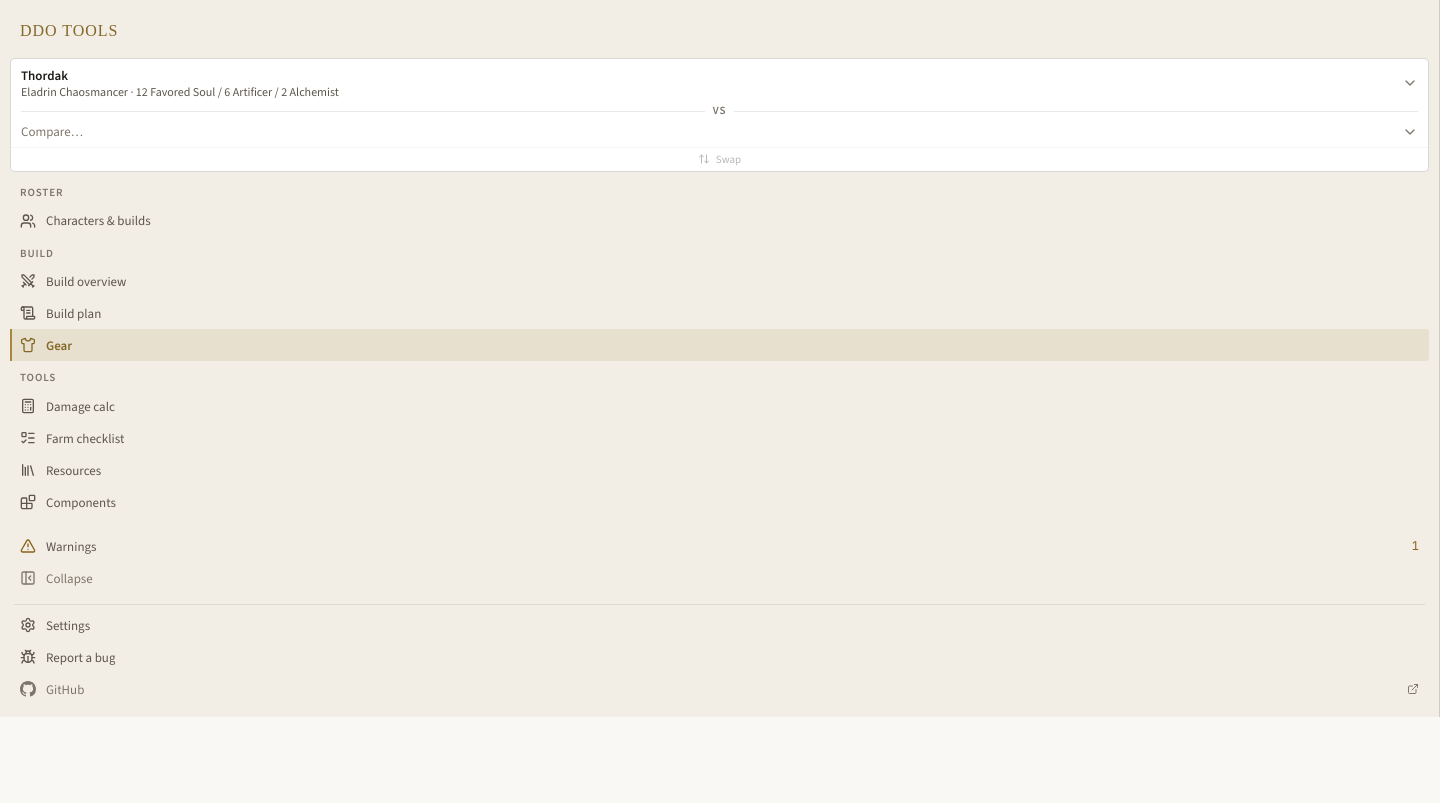
AppNavBar › lists each warning and navigates to where it points
Click the button "Warnings 1" at (71, 546), box x1=10 y1=530 x2=1429 y2=562
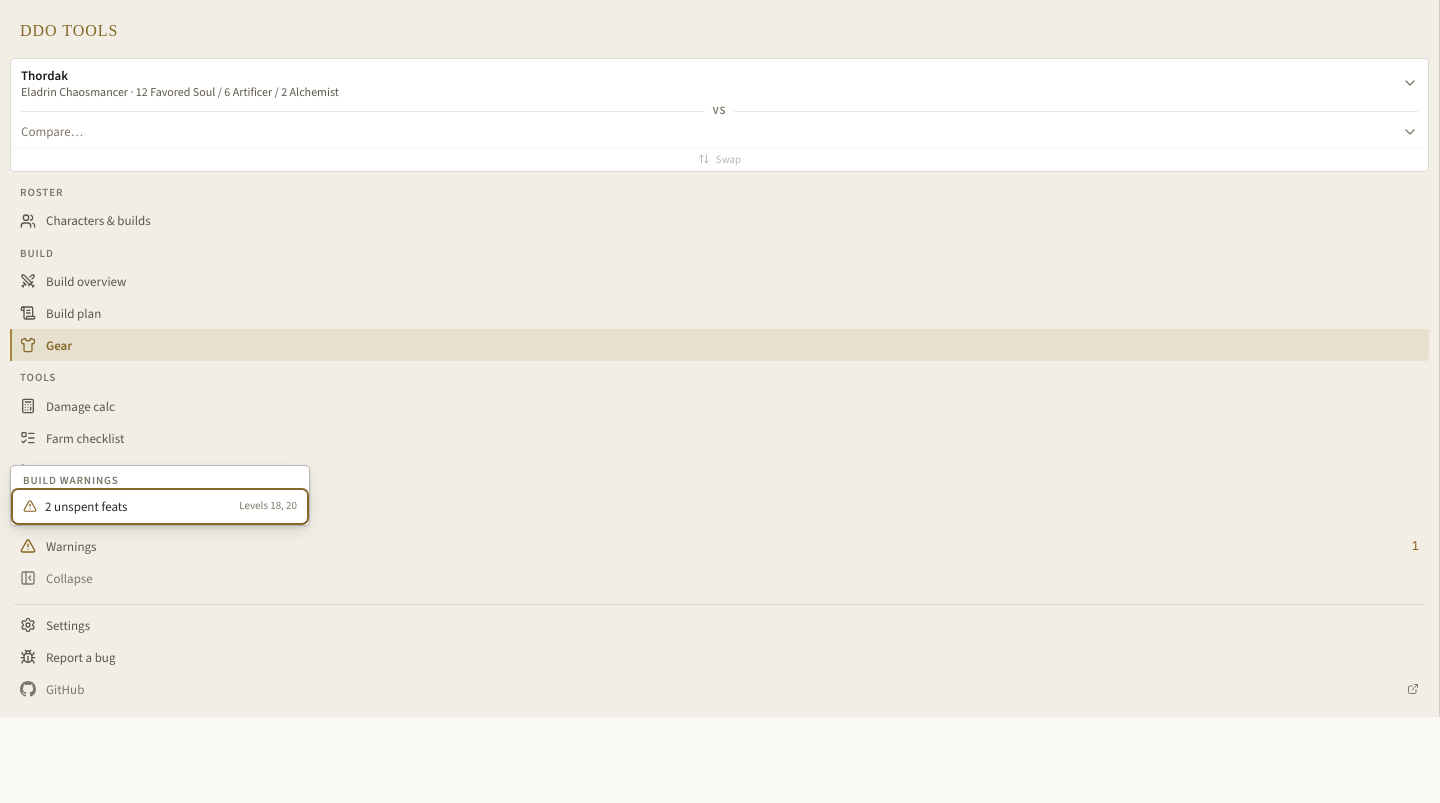
Click the button "2 unspent feats Levels 18, 20" at (86, 506), box x1=15 y1=492 x2=305 y2=521
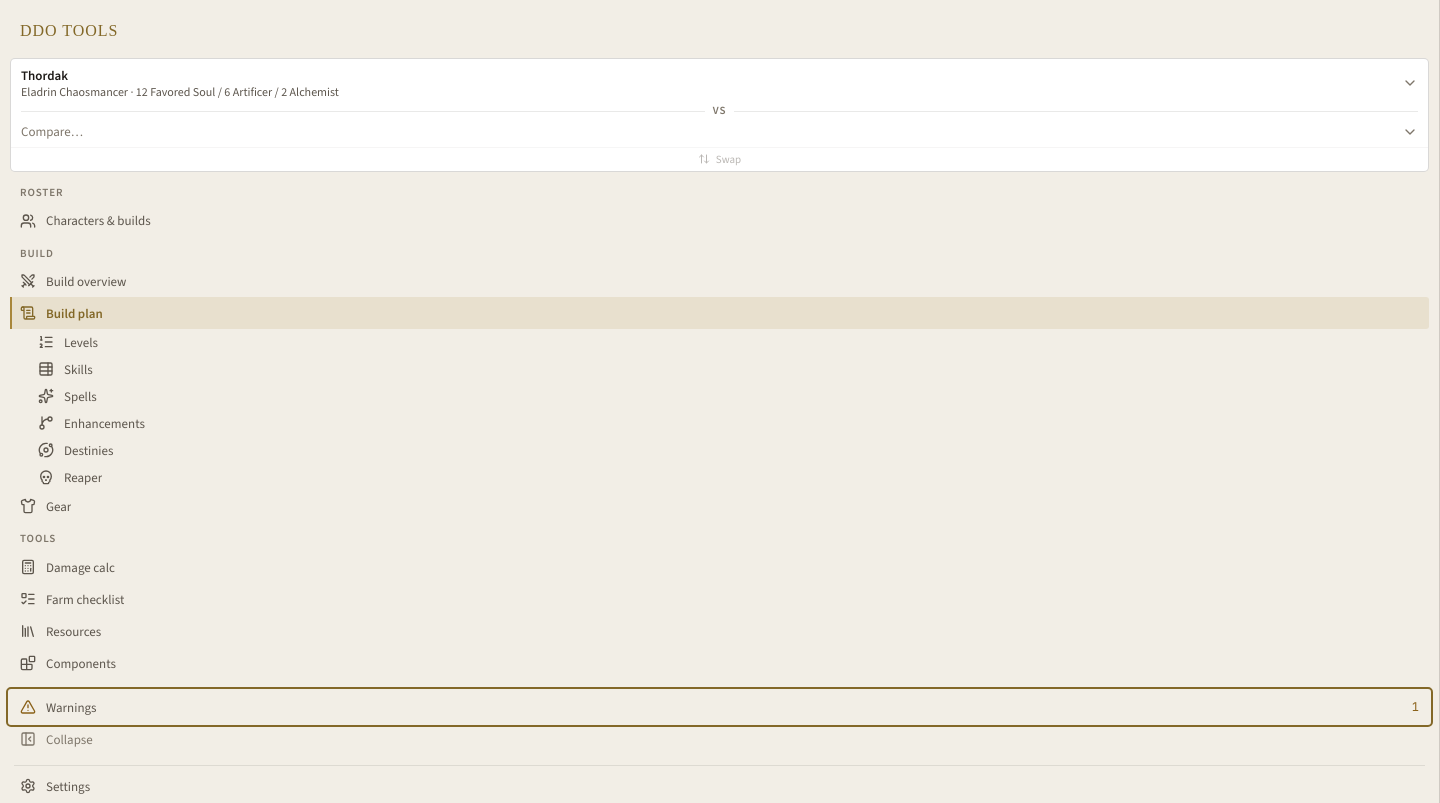
Expected: the text "Build warnings" is gone
